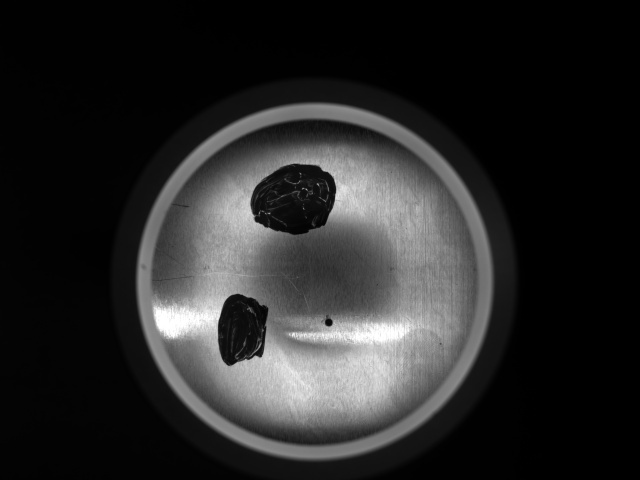zang_wu: (245, 161, 339, 236), (216, 291, 271, 367)
zhen_kong: (317, 311, 334, 328)
